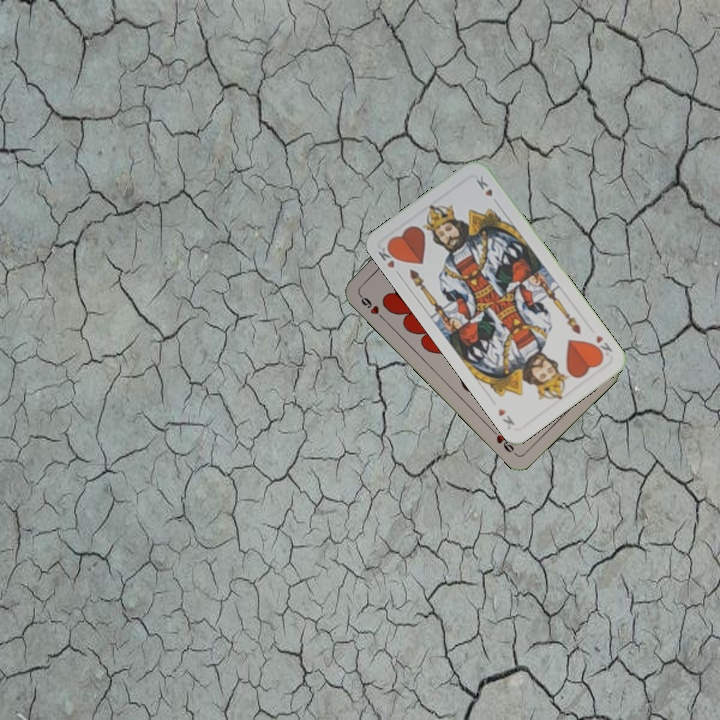H9: (355, 290, 387, 322)
HK: (374, 240, 403, 279), (588, 331, 615, 360)
